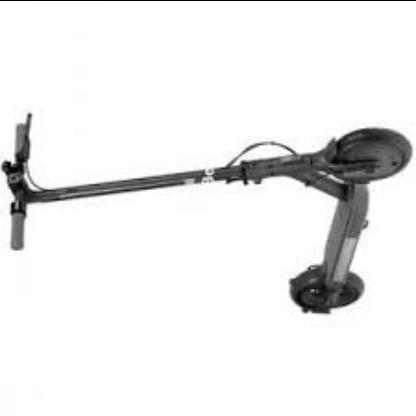bike: (1, 114, 413, 316)
